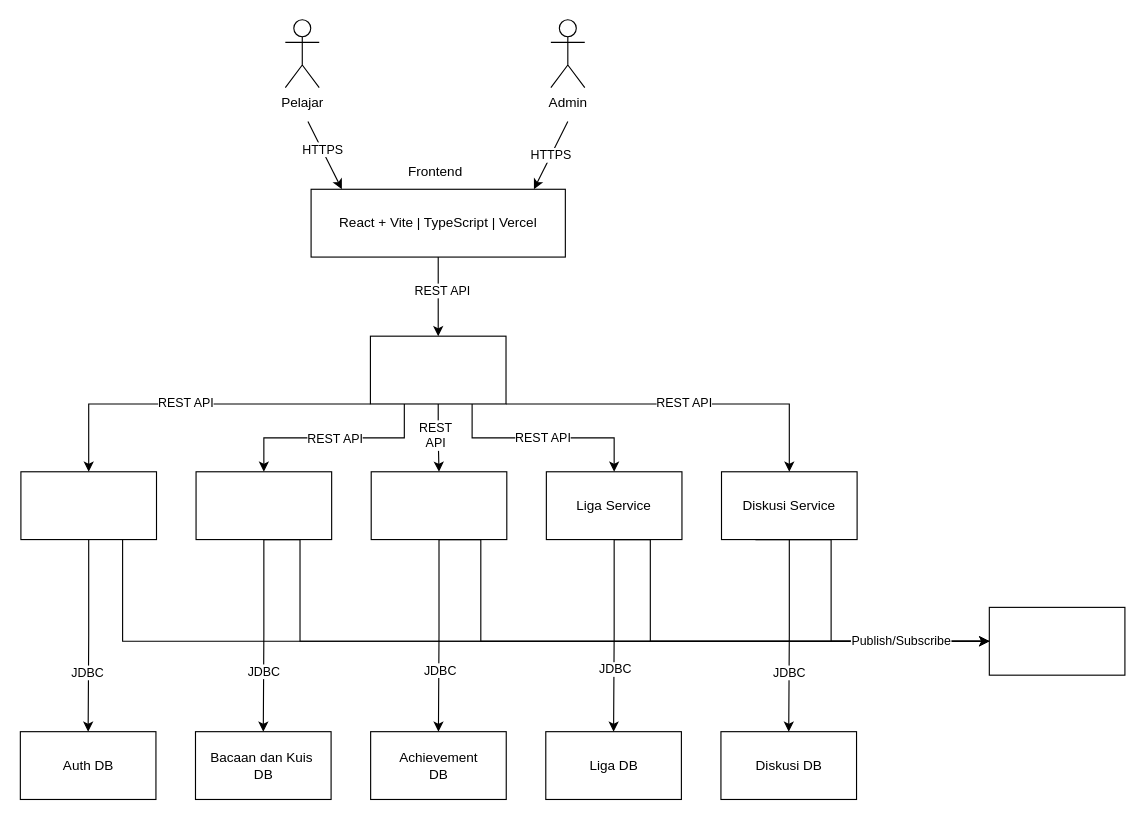
Some shapes in this 1145 by 819 pixel diagram are drawn without their labels. Here are the shapes that lost their labels. From the top down, the centre of each, then its label:
the point at 437,369: API Gateway
the point at 88,505: Auth Service
the point at 263,505: Bacaan dan Kuis Service
the point at 438,505: Achievement Service
the point at 1056,640: RabbitMQ (Message Broker)
